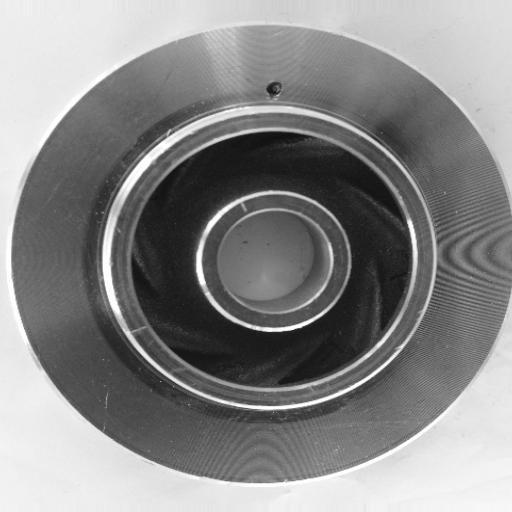pit: (262, 76, 290, 108)
unpolished_casting: (12, 21, 512, 489)
